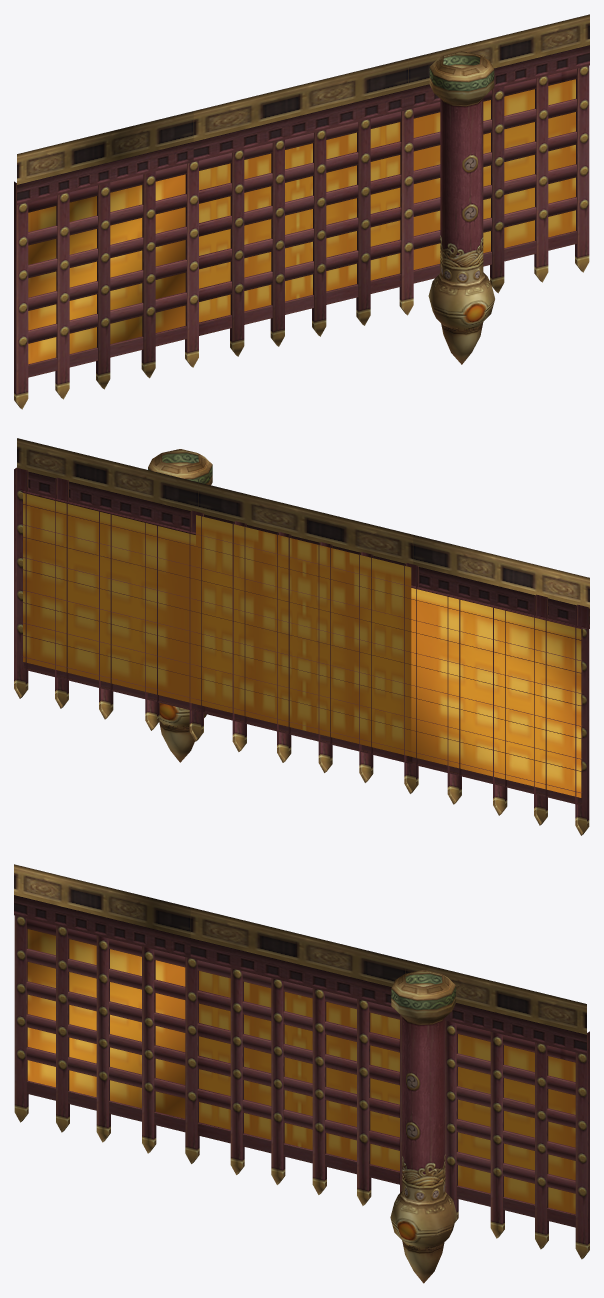
The model's file is tqfb_xfz.FBX.
3 views of the same model, one above another, from view 1: azimuth 30°, elevation 25°; view 2: azimuth 150°, elevation 25°; view 3: azimuth 330°, elevation 25° (orthographic).
Parts seen in each view (by area): view 1: tqfba02, tqfba00; view 2: tqfba02, tqfba00; view 3: tqfba02, tqfba00.
Boxes of the visible parts, x1=… form: tqfba02: x1=14, y1=14, x2=589, y2=409; tqfba00: x1=428, y1=51, x2=494, y2=364; tqfba02: x1=14, y1=438, x2=589, y2=835; tqfba00: x1=148, y1=449, x2=212, y2=762; tqfba02: x1=14, y1=864, x2=589, y2=1259; tqfba00: x1=390, y1=969, x2=456, y2=1283.
Size of the model in its own units: 18.42 by 9.38 by 2.04.
